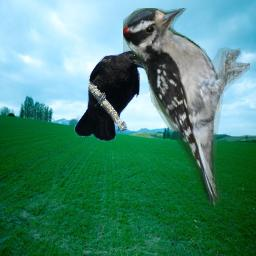Crow: (74, 50, 148, 142)
Woodpecker: (123, 8, 250, 207)
